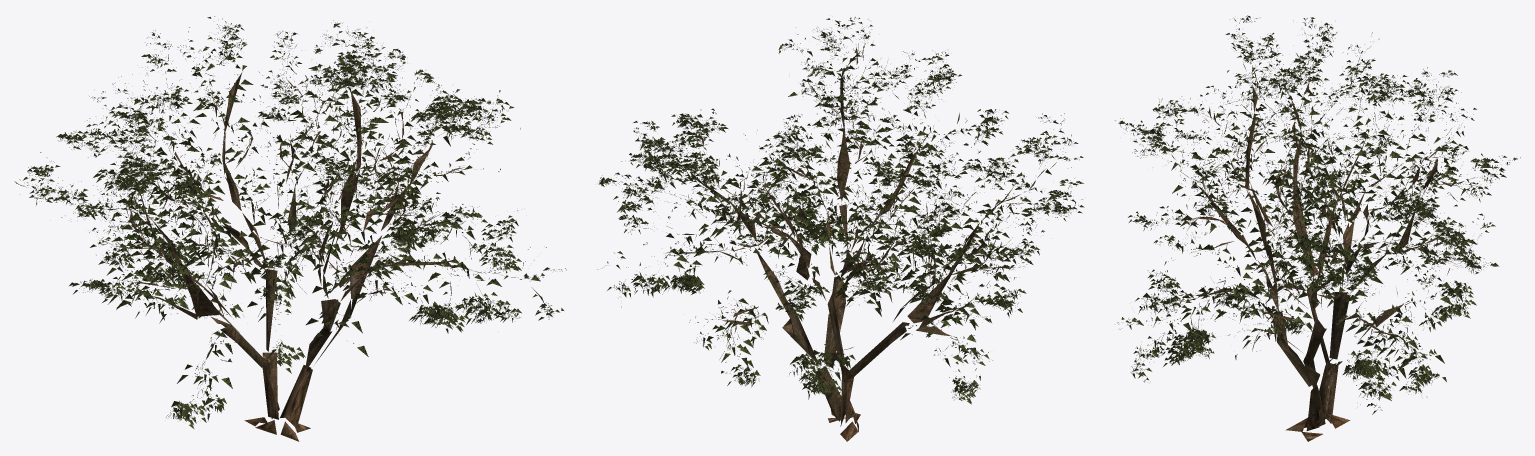
The model's file is jacaranda_tree_lod2.gltf.
3 views of the same model, side by side, from view 1: azimuth 30°, elevation 25°; view 2: azimuth 150°, elevation 25°; view 3: azimuth 270°, elevation 25° (orthographic). The views are drawn at different scales.
Visible parts, largest first — view 1: jacaranda_tree_lod2; view 2: jacaranda_tree_lod2; view 3: jacaranda_tree_lod2.
Part boxes in pixels (x1=…): jacaranda_tree_lod2: x1=14, y1=16, x2=566, y2=441; jacaranda_tree_lod2: x1=598, y1=17, x2=1084, y2=441; jacaranda_tree_lod2: x1=1115, y1=15, x2=1520, y2=441.
Bounding box in the file's own units: 24.09 × 19.28 × 18.59.
3 materials, 3 textured.
